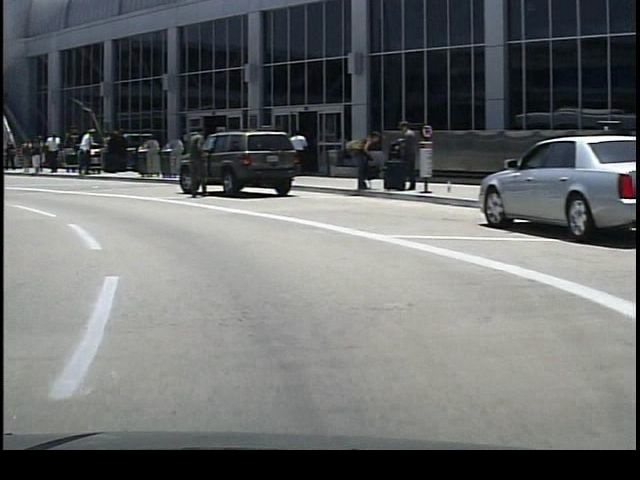person: (374, 116, 418, 193), (178, 116, 206, 203), (345, 124, 376, 194), (279, 118, 309, 186), (68, 125, 96, 178), (40, 129, 60, 178), (22, 134, 41, 180)
